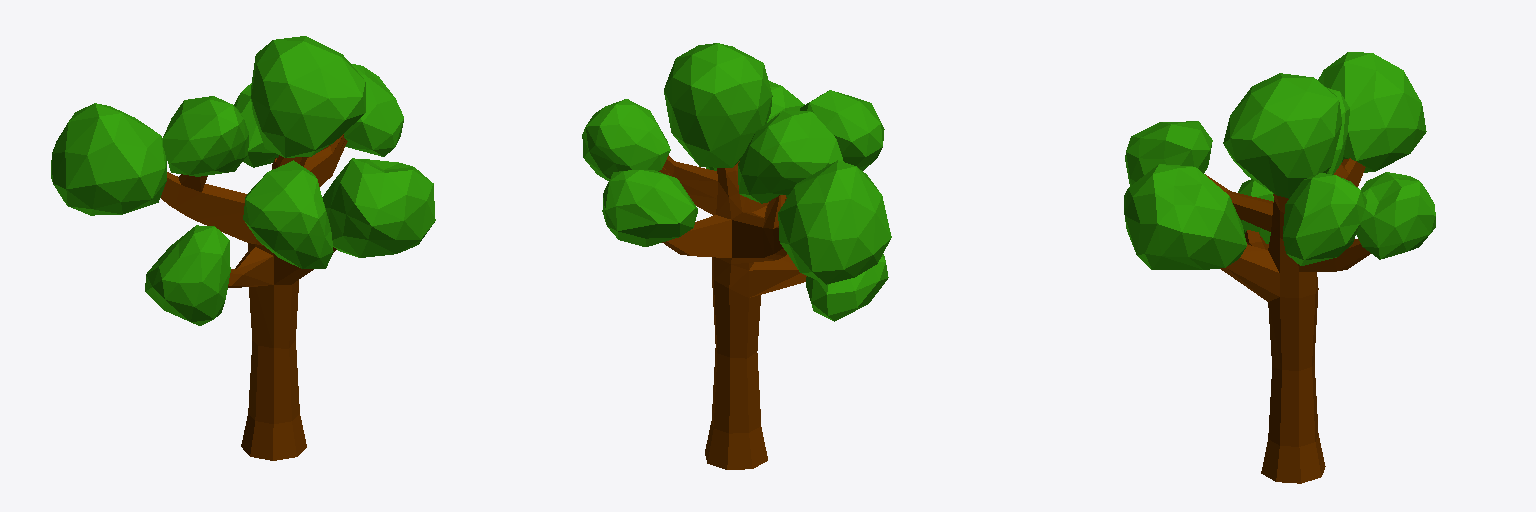
The model's file is tree3.obj.
3 renders of one model, left to right at view 1: azimuth 30°, elevation 25°; view 2: azimuth 150°, elevation 25°; view 3: azimuth 270°, elevation 25°, orthographic.
Bounding box in the file's own units: 3.18 × 3.92 × 2.75.